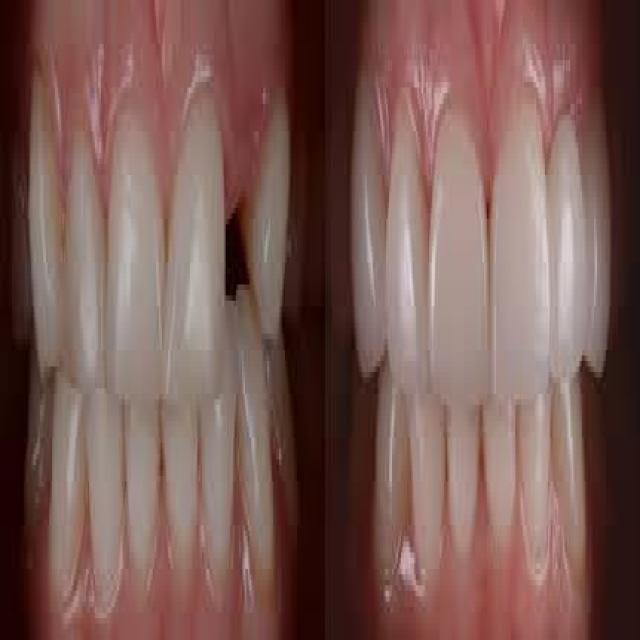tooth: (98, 99, 168, 421), (485, 82, 551, 421), (162, 77, 226, 421), (426, 82, 489, 416), (19, 44, 64, 383), (380, 110, 431, 388), (236, 262, 279, 590), (55, 115, 102, 410), (344, 87, 388, 383), (543, 339, 591, 580), (44, 361, 90, 596), (250, 82, 291, 339), (204, 279, 239, 580), (548, 132, 588, 388), (83, 378, 126, 612), (402, 361, 448, 563), (162, 361, 202, 591), (372, 361, 412, 574), (124, 372, 166, 574), (585, 98, 613, 394), (442, 372, 482, 552), (517, 361, 551, 569), (486, 383, 520, 536)
